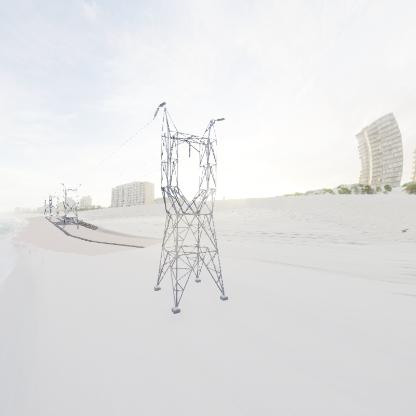tower: (149, 103, 234, 313)
